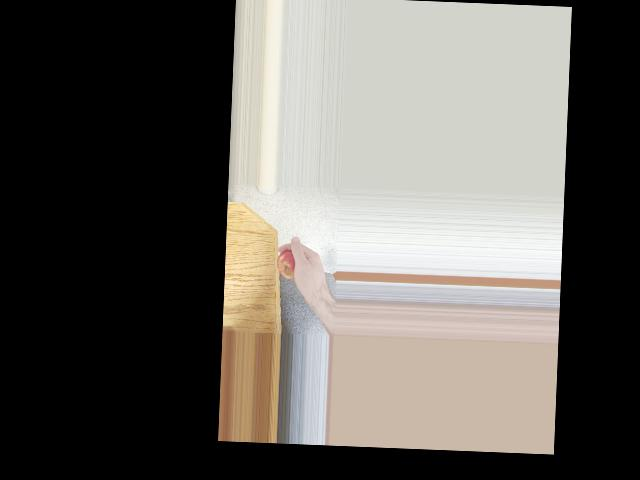apple: (275, 246, 308, 286)
